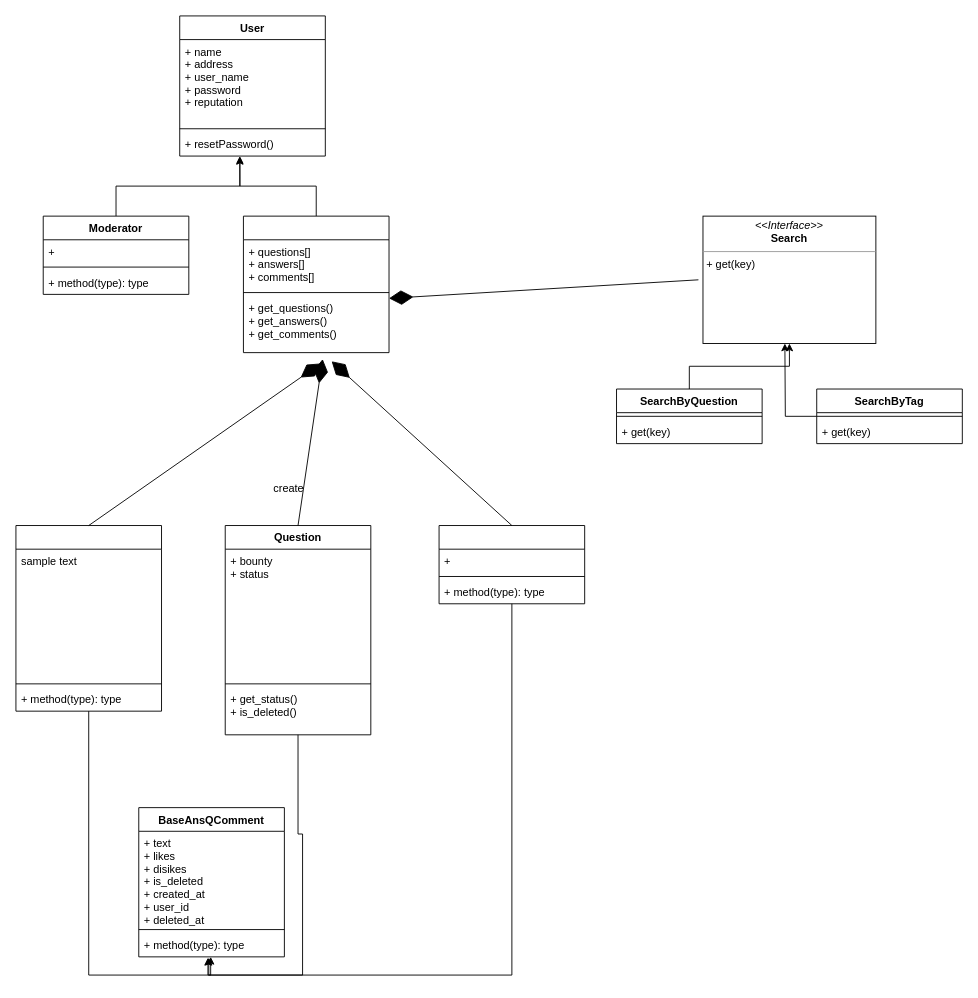
Some shapes in this 978 by 998 pixel diagram are drawn without their labels. The shapes that lost their labels are listed below. From the top down, each one's box as (x1, y1, x2, y2) in pixels, then its label:
(243, 215, 389, 353): Member
(438, 525, 585, 604): Comment
(15, 525, 162, 711): Answer
